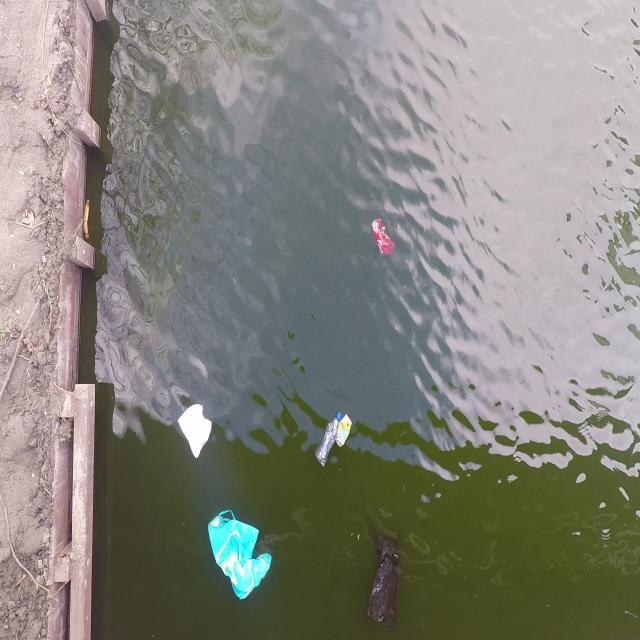Autre plastique: (371, 218, 395, 260)
Bouteille plastique: (312, 410, 342, 471)
Non plastique: (362, 526, 408, 636), (335, 413, 353, 452)
Sac plastique: (203, 510, 276, 609)
